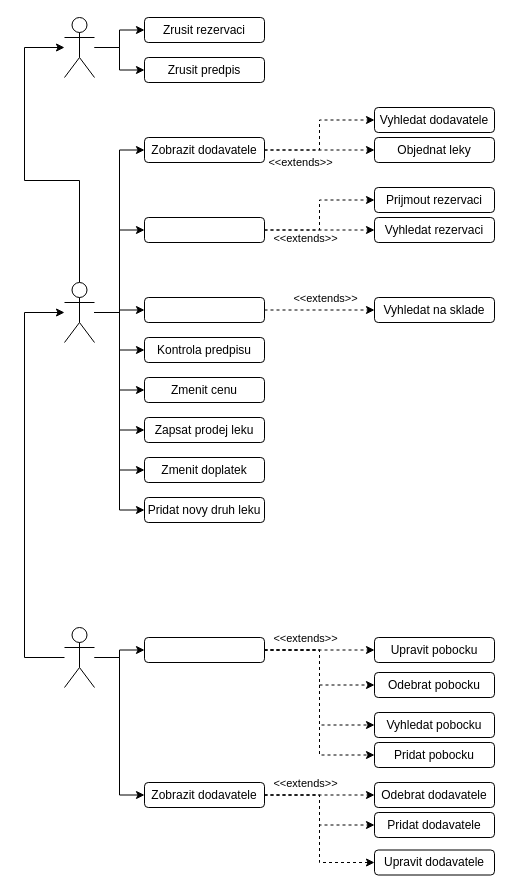
Some shapes in this 512 by 893 pixel diagram are drawn without their labels. Here are the shapes that lost their labels. From the top down, the box of each, then its label:
(64, 16, 94, 78): Cas
(144, 216, 264, 242): Zobrazit rezervace
(64, 282, 94, 342): Zamestnanec
(144, 296, 264, 322): Zobrazit sklad
(64, 626, 94, 688): Spravce
(144, 636, 264, 662): Zobrazit pobocky
